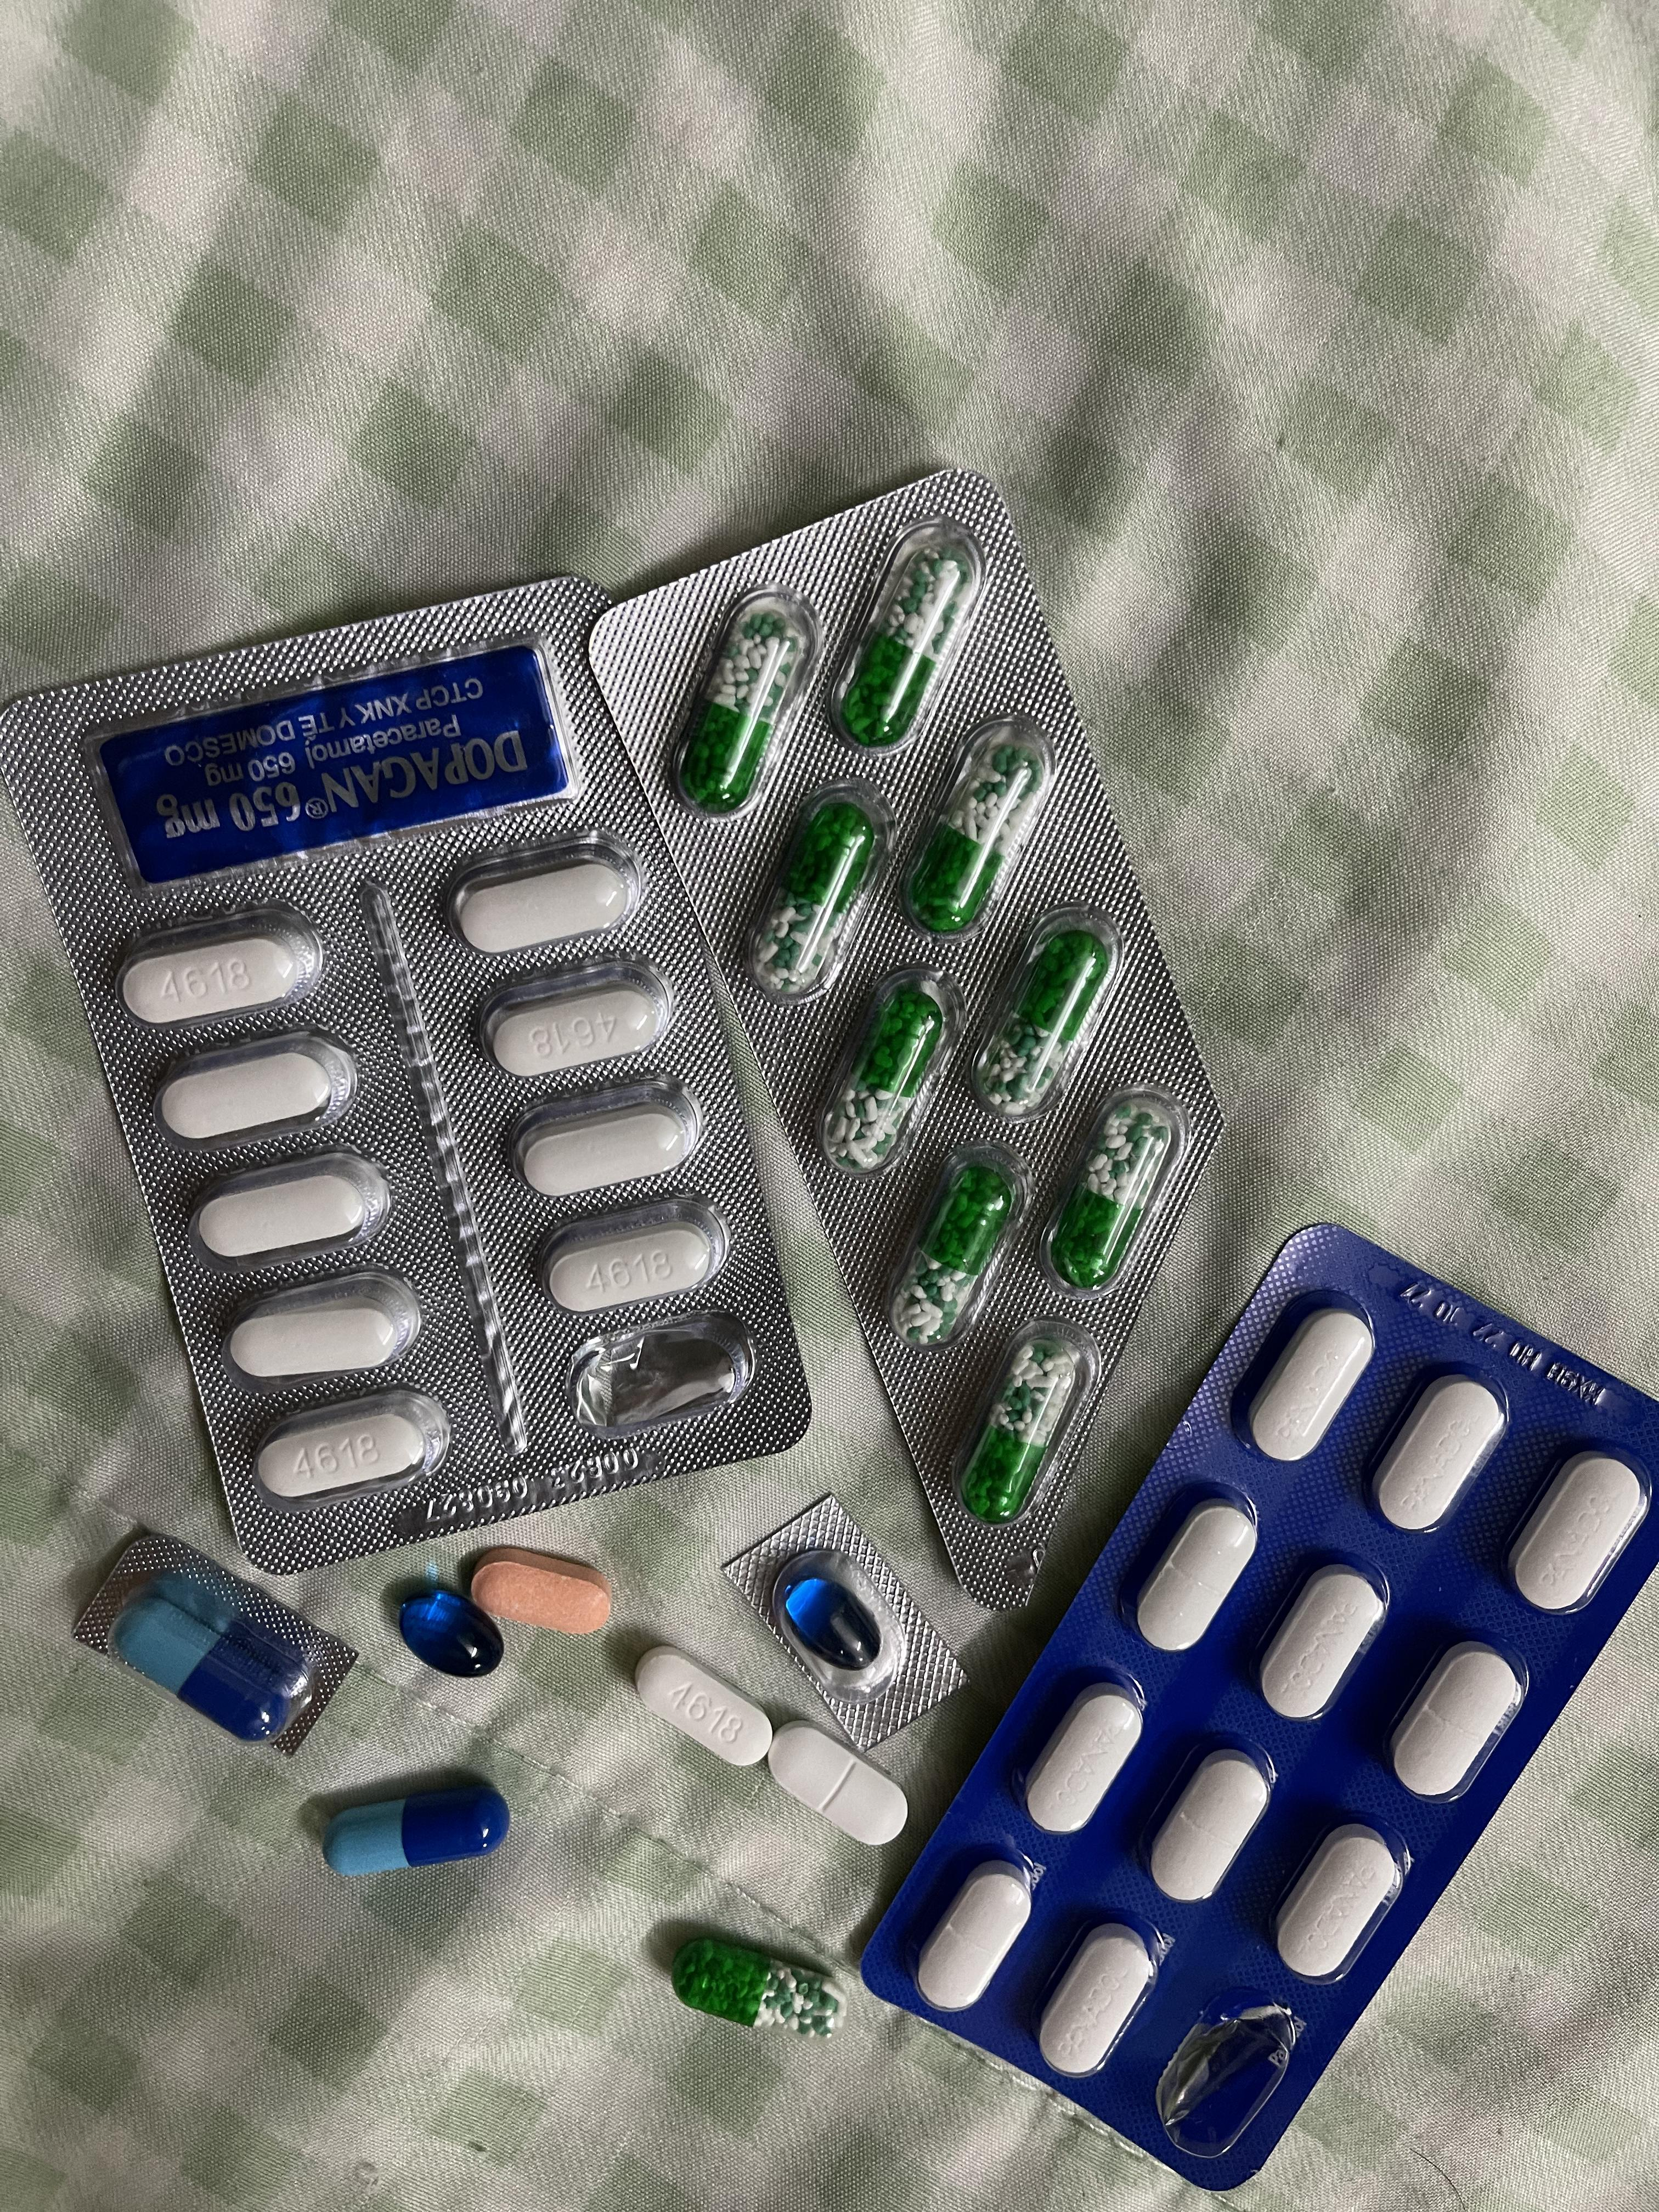Lincomyxin_500mg: (398, 1577, 510, 1680), (787, 1577, 885, 1672)
Loratadine_10mg: (470, 1547, 617, 1631)
Paracetamol_350mg: (1505, 1451, 1651, 1618), (1254, 1559, 1390, 1726), (1386, 1640, 1523, 1805), (1274, 1819, 1407, 1989), (1372, 1371, 1512, 1532), (1242, 1306, 1378, 1462), (1146, 1743, 1273, 1908), (1133, 1497, 1259, 1655), (1035, 1918, 1159, 2078), (1023, 1676, 1145, 1836), (917, 1858, 1036, 2017), (778, 1722, 906, 1845)
Paracetamol_500mg: (185, 1142, 395, 1269), (154, 1046, 343, 1147), (125, 933, 311, 1028), (488, 985, 664, 1085), (515, 1104, 692, 1201), (456, 861, 630, 954), (644, 1645, 770, 1770), (227, 1295, 406, 1380), (548, 1224, 714, 1314), (261, 1414, 427, 1502)
Paracetamol_650mg: (904, 738, 1046, 933), (842, 548, 976, 753), (684, 604, 800, 806), (975, 930, 1105, 1111), (827, 990, 947, 1184), (896, 1159, 1017, 1347), (759, 802, 876, 995), (1046, 1101, 1163, 1292), (961, 1345, 1074, 1511), (672, 1938, 830, 2036)
pill: (114, 1576, 320, 1742), (320, 1787, 518, 1878)
